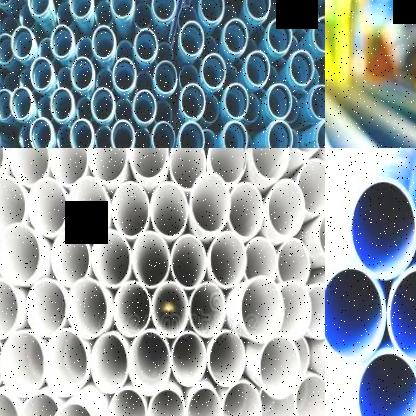pipe: (348, 175, 416, 280), (325, 263, 386, 362), (354, 350, 416, 416), (240, 276, 285, 343), (387, 263, 416, 366), (44, 329, 87, 397), (0, 330, 43, 398), (129, 330, 171, 396), (259, 335, 301, 400), (66, 278, 108, 340), (0, 221, 40, 285), (190, 172, 231, 234), (25, 278, 67, 338), (68, 176, 108, 236), (50, 229, 91, 287), (90, 332, 128, 394), (28, 178, 68, 236), (267, 178, 305, 239), (91, 229, 130, 288), (111, 181, 150, 238), (150, 181, 188, 239), (132, 230, 170, 288), (209, 230, 247, 288), (170, 234, 208, 290), (113, 282, 151, 338), (228, 182, 264, 240), (189, 282, 226, 338), (151, 282, 188, 338), (209, 331, 245, 387), (279, 280, 312, 341), (172, 332, 206, 387), (297, 158, 325, 216), (169, 148, 206, 191), (9, 148, 50, 186), (278, 238, 310, 286), (245, 236, 278, 282), (0, 175, 26, 233), (50, 148, 88, 186), (87, 148, 127, 184), (208, 148, 246, 184), (222, 382, 262, 416), (250, 148, 290, 181), (127, 148, 168, 180), (295, 373, 325, 416), (0, 278, 20, 340), (108, 388, 147, 416), (148, 388, 186, 416), (307, 282, 325, 340), (188, 387, 223, 416), (260, 389, 296, 416), (290, 49, 315, 87), (180, 84, 206, 119), (201, 53, 226, 89), (224, 82, 249, 118), (19, 393, 58, 416), (90, 87, 115, 122), (268, 18, 293, 53), (180, 22, 205, 57), (246, 51, 270, 87), (224, 18, 248, 53), (134, 28, 158, 62), (112, 58, 136, 92), (268, 84, 292, 118), (133, 90, 157, 124), (154, 61, 178, 94), (30, 58, 53, 92), (50, 24, 73, 58), (92, 26, 115, 60), (10, 26, 33, 60), (70, 57, 93, 90), (268, 119, 293, 148), (10, 87, 31, 120), (51, 88, 72, 121), (110, 120, 134, 148), (223, 120, 247, 148), (30, 118, 52, 148), (179, 122, 204, 148), (70, 119, 92, 148), (49, 403, 96, 416), (152, 122, 175, 148), (288, 0, 314, 22), (309, 84, 325, 119), (152, 0, 176, 23), (199, 0, 224, 22), (218, 4, 237, 32), (245, 0, 270, 21), (19, 3, 38, 30), (243, 94, 260, 124), (0, 391, 20, 416), (312, 15, 325, 53), (220, 64, 238, 91), (134, 2, 152, 29), (178, 6, 198, 30), (200, 36, 218, 62), (56, 66, 74, 92), (203, 94, 219, 123), (180, 65, 199, 89), (76, 36, 94, 61), (38, 38, 56, 63), (95, 1, 113, 26), (240, 37, 257, 63), (57, 2, 74, 28), (69, 0, 92, 19), (110, 0, 132, 19), (0, 33, 13, 65), (262, 66, 278, 92), (155, 43, 173, 66), (27, 0, 50, 18), (115, 98, 132, 122), (155, 100, 172, 124), (77, 96, 93, 121), (318, 206, 325, 263), (96, 69, 114, 91), (135, 70, 153, 92), (20, 68, 35, 94), (38, 96, 53, 121), (95, 126, 112, 148), (56, 125, 72, 148), (285, 96, 299, 122), (116, 41, 134, 61), (0, 90, 11, 121), (19, 124, 33, 148), (134, 128, 150, 148), (4, 73, 19, 93), (2, 17, 19, 34), (201, 129, 216, 148), (316, 120, 325, 148), (0, 332, 3, 392), (0, 0, 14, 6)
